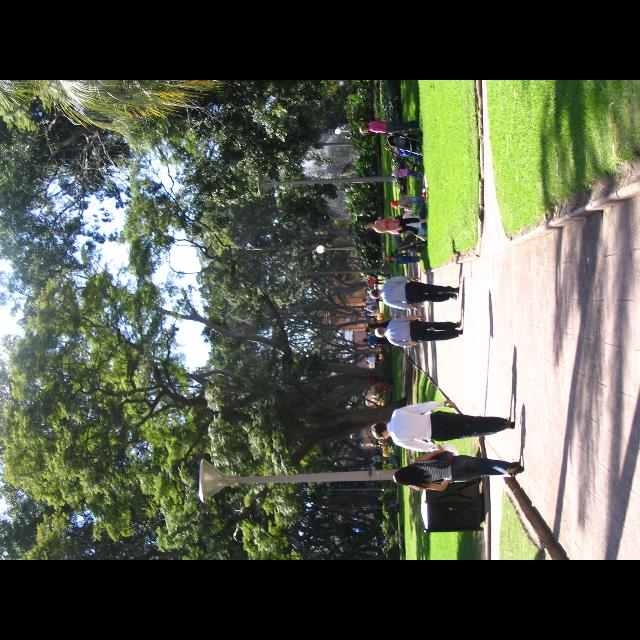head: (220, 353, 236, 375), (324, 351, 332, 367), (304, 355, 308, 361)
person: (299, 354, 315, 376), (220, 353, 236, 375), (324, 351, 332, 367)
